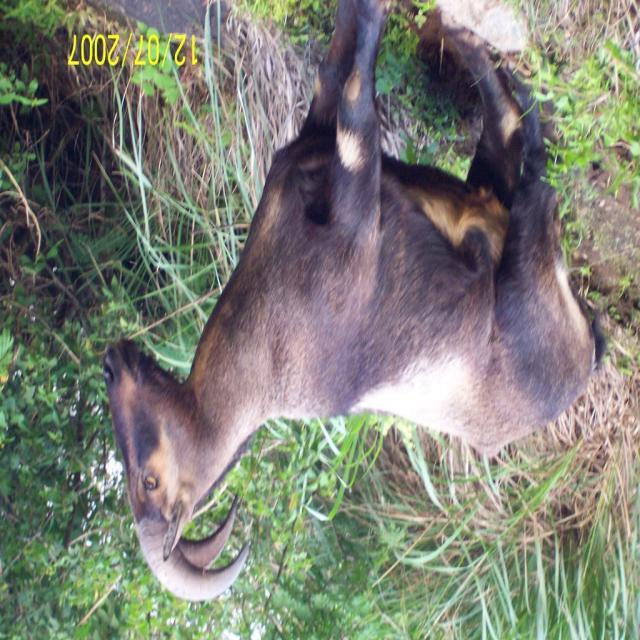Goat: (102, 2, 609, 603)
